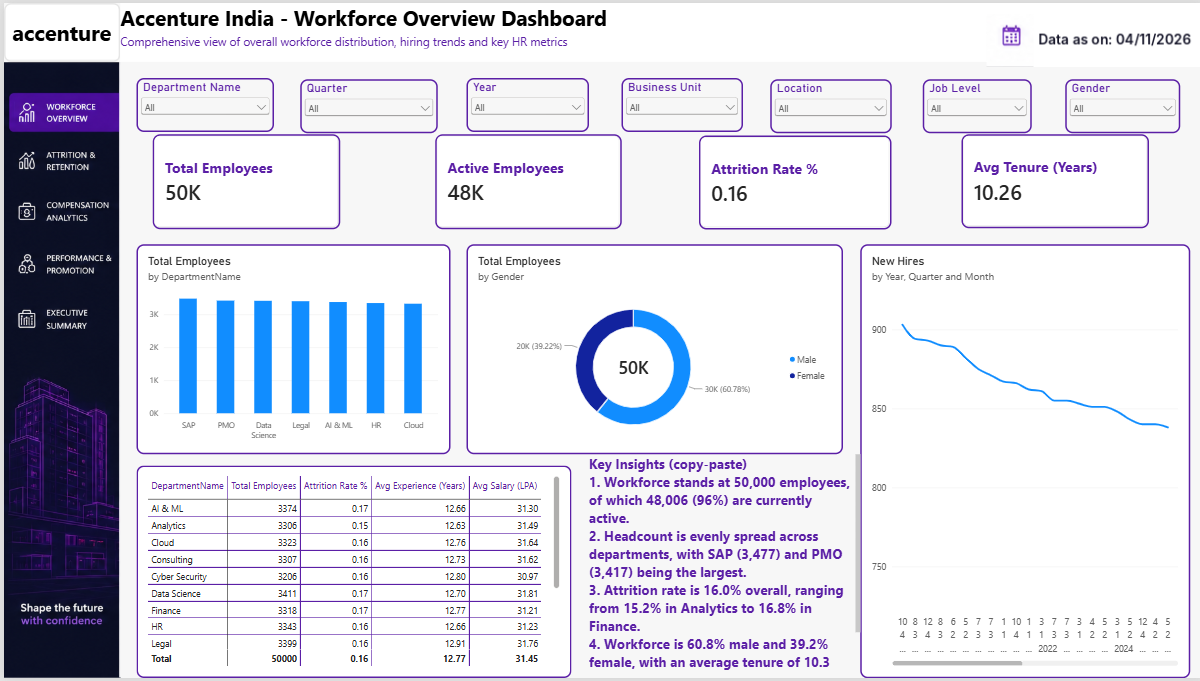

The page's visual inventory and layout, read from the dashboard file:
{"tool":"powerbi","page":{"name":"Workforce Overview","canvas":[1920,1080],"ordinal":0},"visuals":[{"type":"image","box":[0,94,186,986],"z":1},{"type":"shape","box":[0,0,186,94],"z":2},{"type":"shape","box":[186,0,1734,94],"z":3},{"type":"shape","box":[186,48,1734,46],"z":4},{"type":"shape","box":[1698,0,222,94],"z":5},{"type":"image","box":[1572,0,348,120],"z":6},{"type":"slicer","fields":{"Values":["DimDepartment.DepartmentName"]},"box":[212,120,220,86],"z":7},{"type":"slicer","fields":{"Values":["DimDate.Quarter"]},"box":[474,122,220,86],"z":8},{"type":"slicer","fields":{"Values":["DimDate.Year"]},"box":[740,120,196,86],"z":9},{"type":"slicer","fields":{"Values":["DimDepartment.BusinessUnit"]},"box":[988,120,194,86],"z":10},{"type":"slicer","fields":{"Values":["DimLocation.LocationID"]},"box":[1226,122,194,86],"z":11},{"type":"slicer","fields":{"Values":["DimJobLevel.JobLevel"]},"box":[1470,122,174,86],"z":12},{"type":"slicer","fields":{"Values":["FactAttrition.Gender"]},"box":[1698,122,184,86],"z":13},{"type":"cardVisual","fields":{"Data":["_Measures.Total Employees"]},"box":[238,210,300,152],"z":14},{"type":"cardVisual","fields":{"Data":["_Measures.Active Employees"]},"box":[690,210,298,152],"z":15},{"type":"cardVisual","fields":{"Data":["_Measures.Attrition Rate %"]},"box":[1112,212,308,150],"z":16},{"type":"cardVisual","fields":{"Data":["_Measures.Avg Tenure (Years)"]},"box":[1532,210,300,150],"z":17},{"type":"clusteredColumnChart","fields":{"Category":["DimDepartment.DepartmentName"],"Y":["_Measures.Total Employees"]},"box":[212,386,502,336],"z":18},{"type":"donutChart","fields":{"Category":["DimEmployee.Gender"],"Y":["_Measures.Total Employees"]},"box":[740,386,602,336],"z":19},{"type":"lineChart","fields":{"Category":["DimDate.Year","DimDate.Quarter","DimDate.Month"],"Y":["_Measures.New Hires"]},"box":[1370,386,528,694],"z":20},{"type":"pivotTable","fields":{"Rows":["DimDepartment.DepartmentName"],"Values":["_Measures.Total Employees","_Measures.Attrition Rate %","_Measures.Avg Experience (Years)","_Measures.Avg Salary (LPA)"]},"box":[212,740,696,340],"z":21},{"type":"textbox","box":[936,722,434,358],"z":22}]}

Visuals, with their boxes in screenshot pixels (x1, y1, x2, y2):
image: x1=0 y1=64 x2=115 y2=672
shape: x1=0 y1=6 x2=115 y2=64
shape: x1=115 y1=6 x2=1183 y2=64
shape: x1=115 y1=36 x2=1183 y2=64
shape: x1=1047 y1=6 x2=1183 y2=64
image: x1=969 y1=6 x2=1183 y2=80
slicer - DimDepartment.DepartmentName: x1=131 y1=80 x2=266 y2=133
slicer - DimDate.Quarter: x1=292 y1=81 x2=428 y2=134
slicer - DimDate.Year: x1=456 y1=80 x2=577 y2=133
slicer - DimDepartment.BusinessUnit: x1=609 y1=80 x2=729 y2=133
slicer - DimLocation.LocationID: x1=756 y1=81 x2=875 y2=134
slicer - DimJobLevel.JobLevel: x1=906 y1=81 x2=1013 y2=134
slicer - FactAttrition.Gender: x1=1047 y1=81 x2=1160 y2=134
cardVisual - _Measures.Total Employees: x1=147 y1=136 x2=332 y2=229
cardVisual - _Measures.Active Employees: x1=425 y1=136 x2=609 y2=229
cardVisual - _Measures.Attrition Rate %: x1=685 y1=137 x2=875 y2=229
cardVisual - _Measures.Avg Tenure (Years): x1=944 y1=136 x2=1129 y2=228
clusteredColumnChart - DimDepartment.DepartmentName x _Measures.Total Employees: x1=131 y1=244 x2=440 y2=451
donutChart - DimEmployee.Gender x _Measures.Total Employees: x1=456 y1=244 x2=827 y2=451
lineChart - DimDate.Year x DimDate.Quarter: x1=844 y1=244 x2=1170 y2=672
pivotTable - DimDepartment.DepartmentName x _Measures.Total Employees: x1=131 y1=462 x2=560 y2=672
textbox: x1=577 y1=451 x2=844 y2=672
